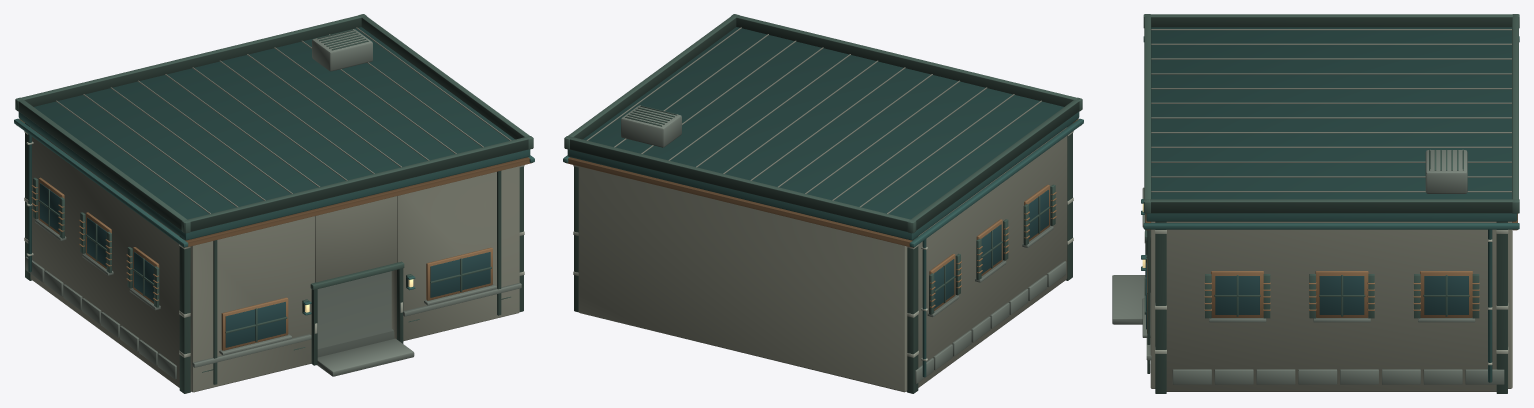
The model's file is kf-barracks.glb.
3 views of the same model, side by side, from view 1: azimuth 30°, elevation 25°; view 2: azimuth 150°, elevation 25°; view 3: azimuth 270°, elevation 25° (orthographic). The views are drawn at different scales.
Parts seen in each view (by area): view 1: Roof Roof metal, Shell Painted plaster, RoofDetail Timber trim, Shell Foundation, Shell Timber trim, Shell Window glass, Shell Warm wood, RoofDetail Brushed hardware, Shell Roof metal, RoofDetail Foundation; view 2: Shell Painted plaster, Roof Roof metal, RoofDetail Timber trim, Shell Timber trim, RoofDetail Brushed hardware, Shell Warm wood, Shell Foundation, Shell Roof metal, Shell Window glass, RoofDetail Foundation; view 3: Roof Roof metal, Shell Painted plaster, RoofDetail Timber trim, RoofDetail Brushed hardware, Shell Foundation, Shell Timber trim, Shell Window glass, Shell Roof metal, Shell Warm wood, RoofDetail Foundation, Shell Brushed hardware.
Boxes of the visible parts, left/top/right/bottom form: Roof Roof metal: left=18, top=27, right=530, bottom=240; Shell Painted plaster: left=30, top=127, right=519, bottom=392; RoofDetail Timber trim: left=15, top=14, right=533, bottom=233; Shell Foundation: left=25, top=218, right=521, bottom=391; Shell Timber trim: left=25, top=123, right=523, bottom=393; Shell Window glass: left=39, top=183, right=490, bottom=347; Shell Warm wood: left=16, top=119, right=532, bottom=350; RoofDetail Brushed hardware: left=56, top=27, right=511, bottom=213; Shell Roof metal: left=14, top=118, right=534, bottom=315; RoofDetail Foundation: left=312, top=29, right=372, bottom=71; Shell Painted plaster: left=578, top=127, right=1067, bottom=392; Roof Roof metal: left=567, top=27, right=1079, bottom=240; RoofDetail Timber trim: left=564, top=14, right=1082, bottom=233; Shell Timber trim: left=574, top=123, right=1072, bottom=393; RoofDetail Brushed hardware: left=586, top=27, right=1041, bottom=213; Shell Warm wood: left=565, top=119, right=1081, bottom=310; Shell Foundation: left=906, top=225, right=1066, bottom=391; Shell Roof metal: left=563, top=118, right=1083, bottom=377; Shell Window glass: left=934, top=190, right=1048, bottom=308; RoofDetail Foundation: left=621, top=105, right=681, bottom=147; Roof Roof metal: left=1146, top=27, right=1517, bottom=221; Shell Painted plaster: left=1150, top=221, right=1512, bottom=391; RoofDetail Timber trim: left=1143, top=14, right=1519, bottom=213; RoofDetail Brushed hardware: left=1151, top=29, right=1511, bottom=192; Shell Foundation: left=1112, top=187, right=1504, bottom=384; Shell Timber trim: left=1144, top=214, right=1507, bottom=393; Shell Window glass: left=1146, top=262, right=1468, bottom=329; Shell Roof metal: left=1141, top=36, right=1519, bottom=382; Shell Warm wood: left=1145, top=213, right=1517, bottom=333; RoofDetail Foundation: left=1425, top=150, right=1467, bottom=193; Shell Brushed hardware: left=1144, top=230, right=1508, bottom=365.
Size of the model in its own units: 12.88 by 6.61 by 11.7.
